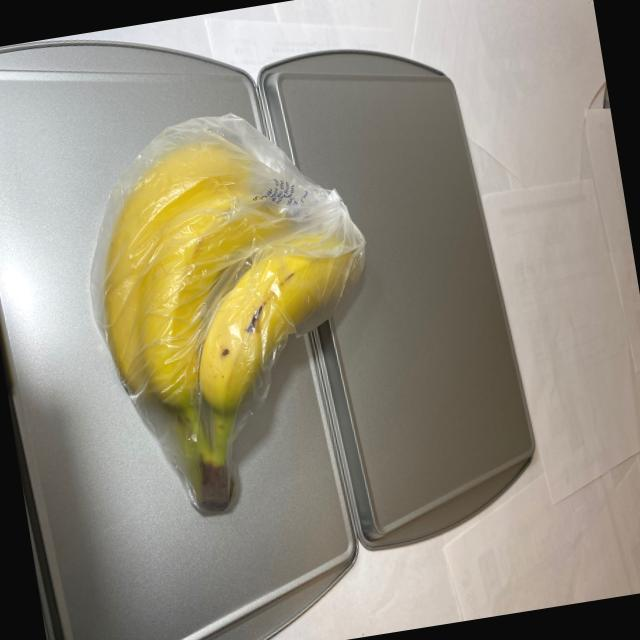banana: (65, 99, 412, 531)
